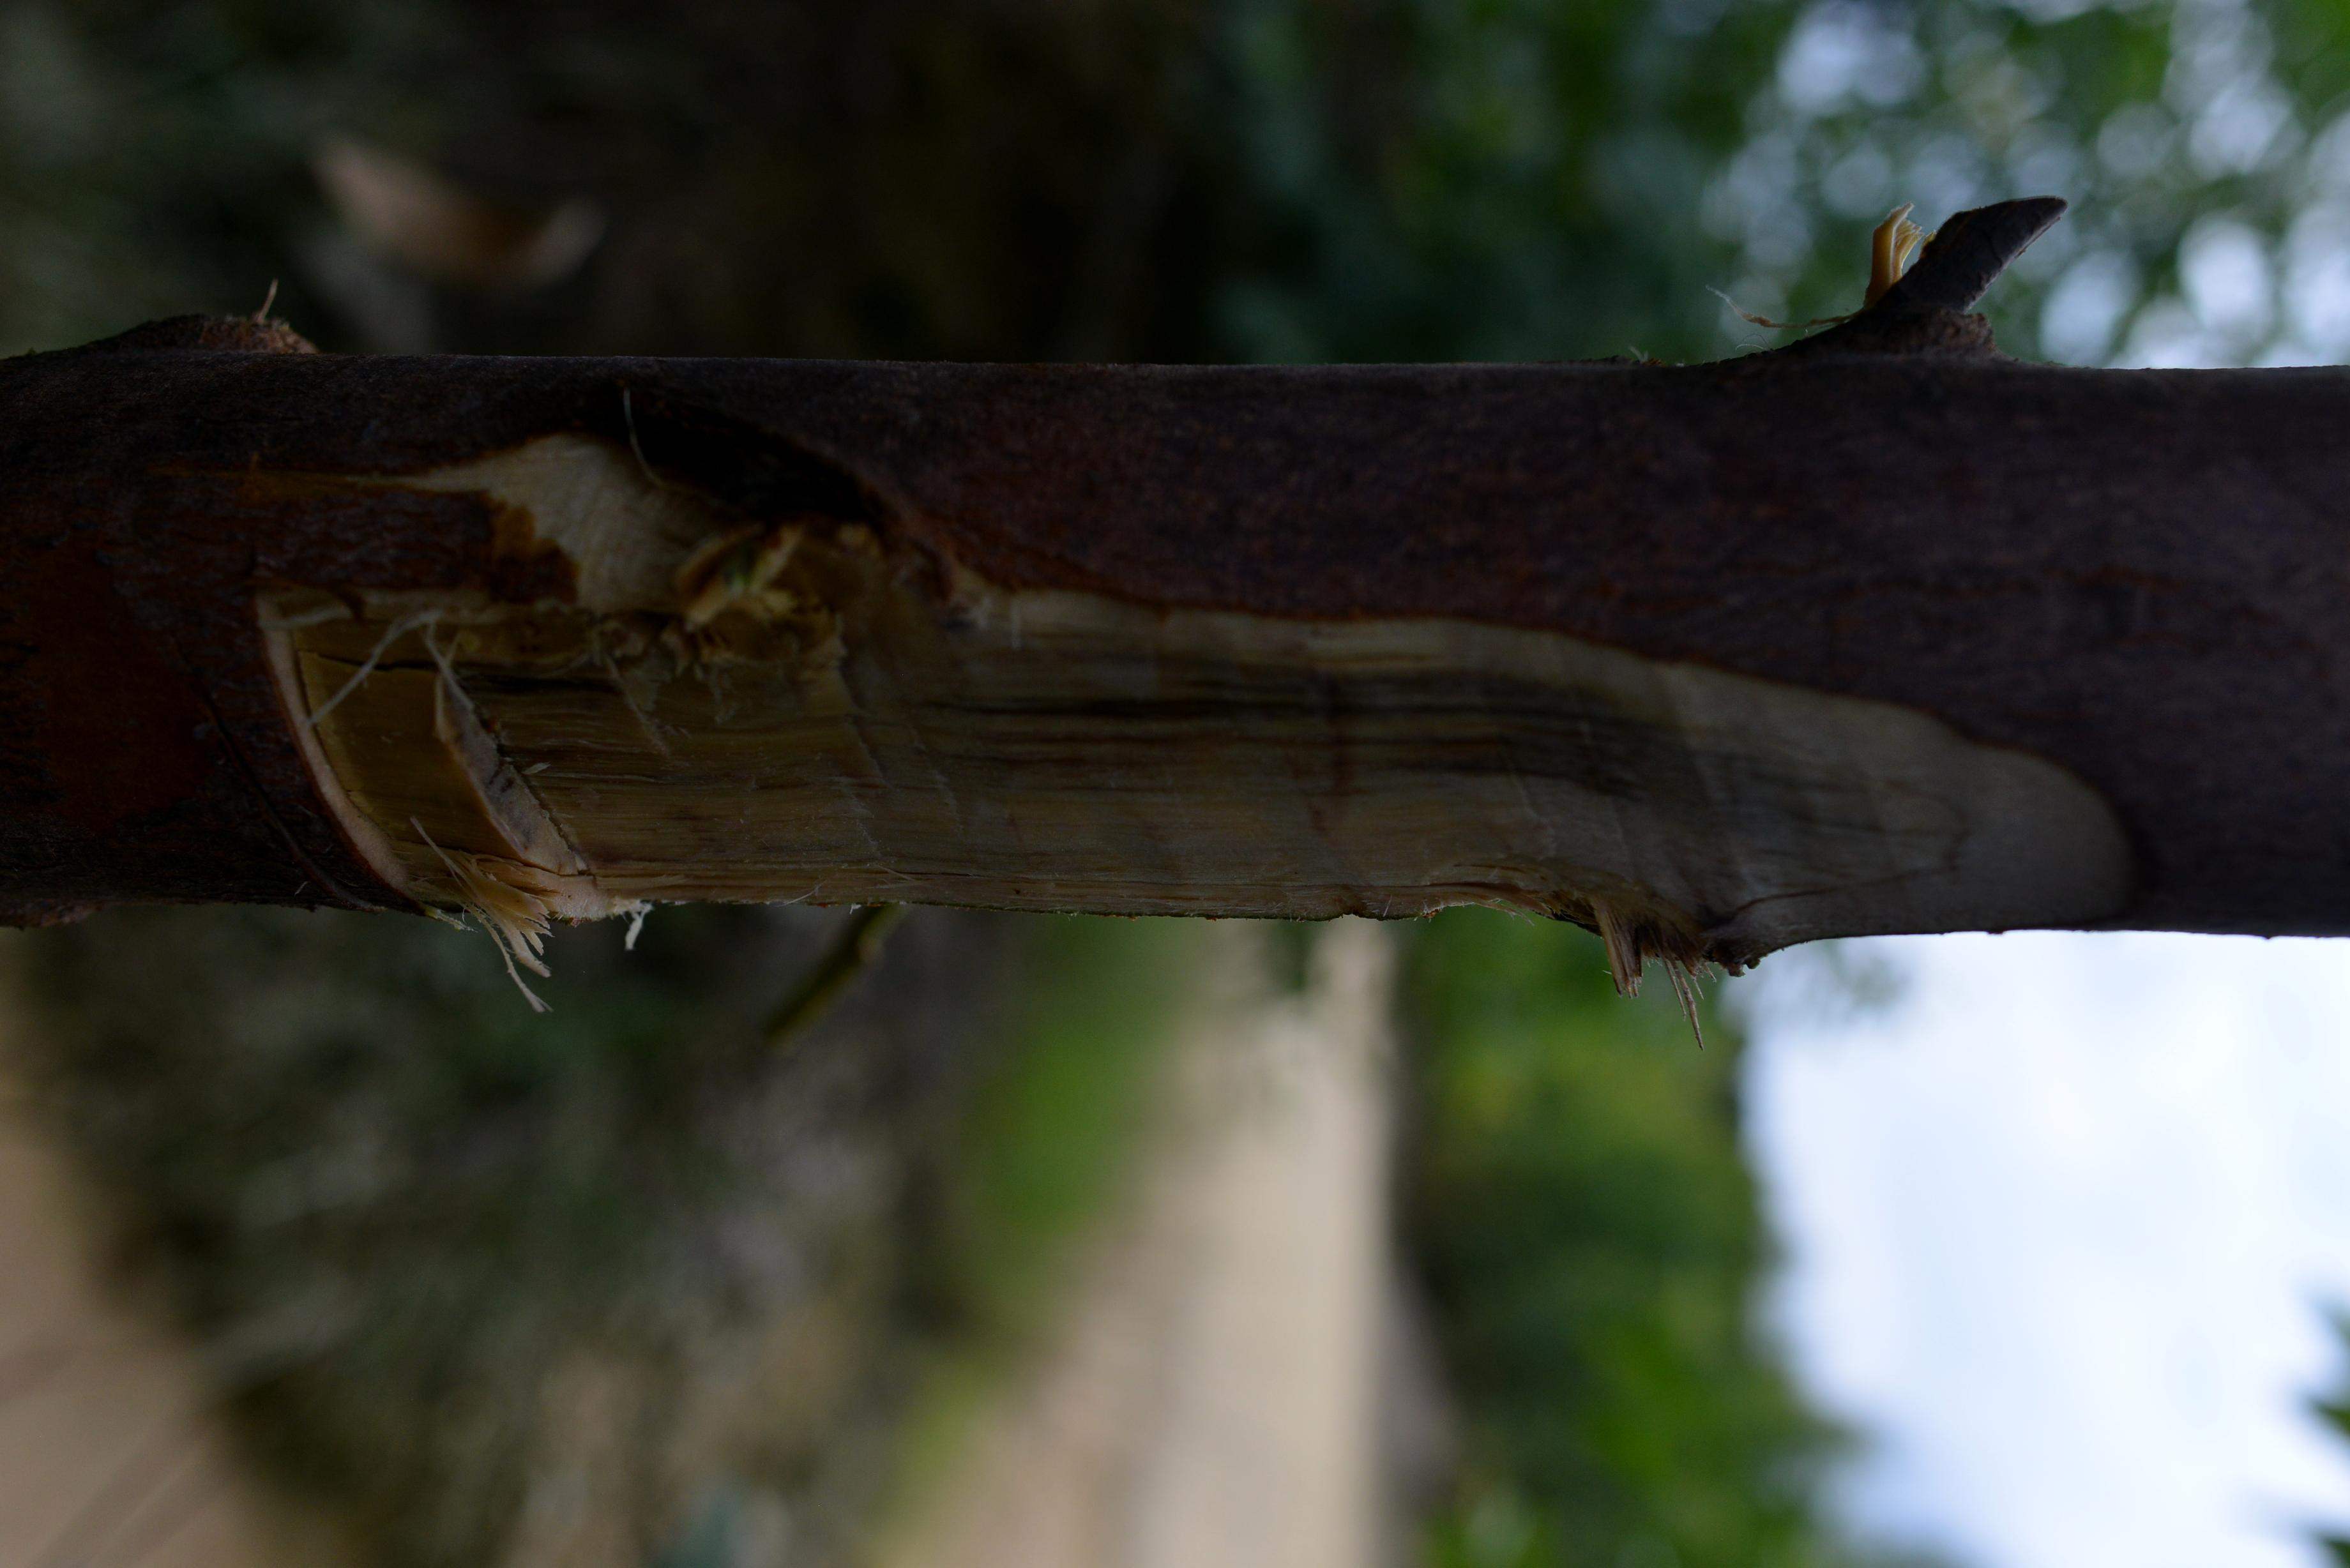Ralstonia: (289, 607, 2054, 926)
